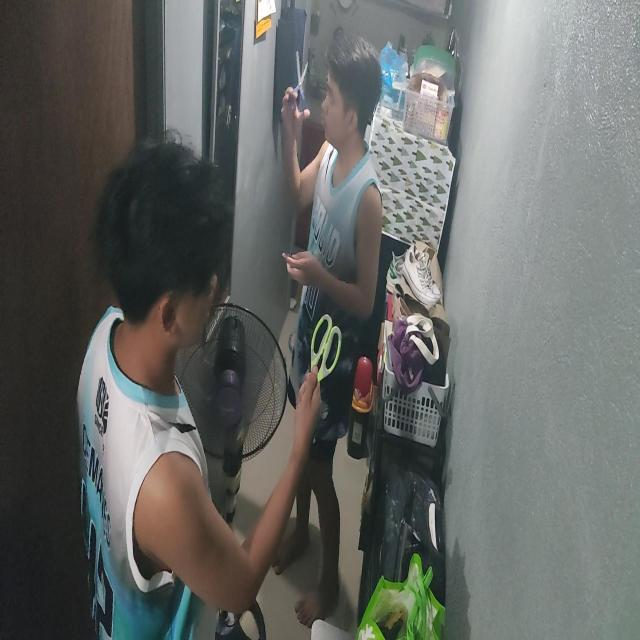scissor: (302, 314, 342, 402), (283, 51, 311, 118)
